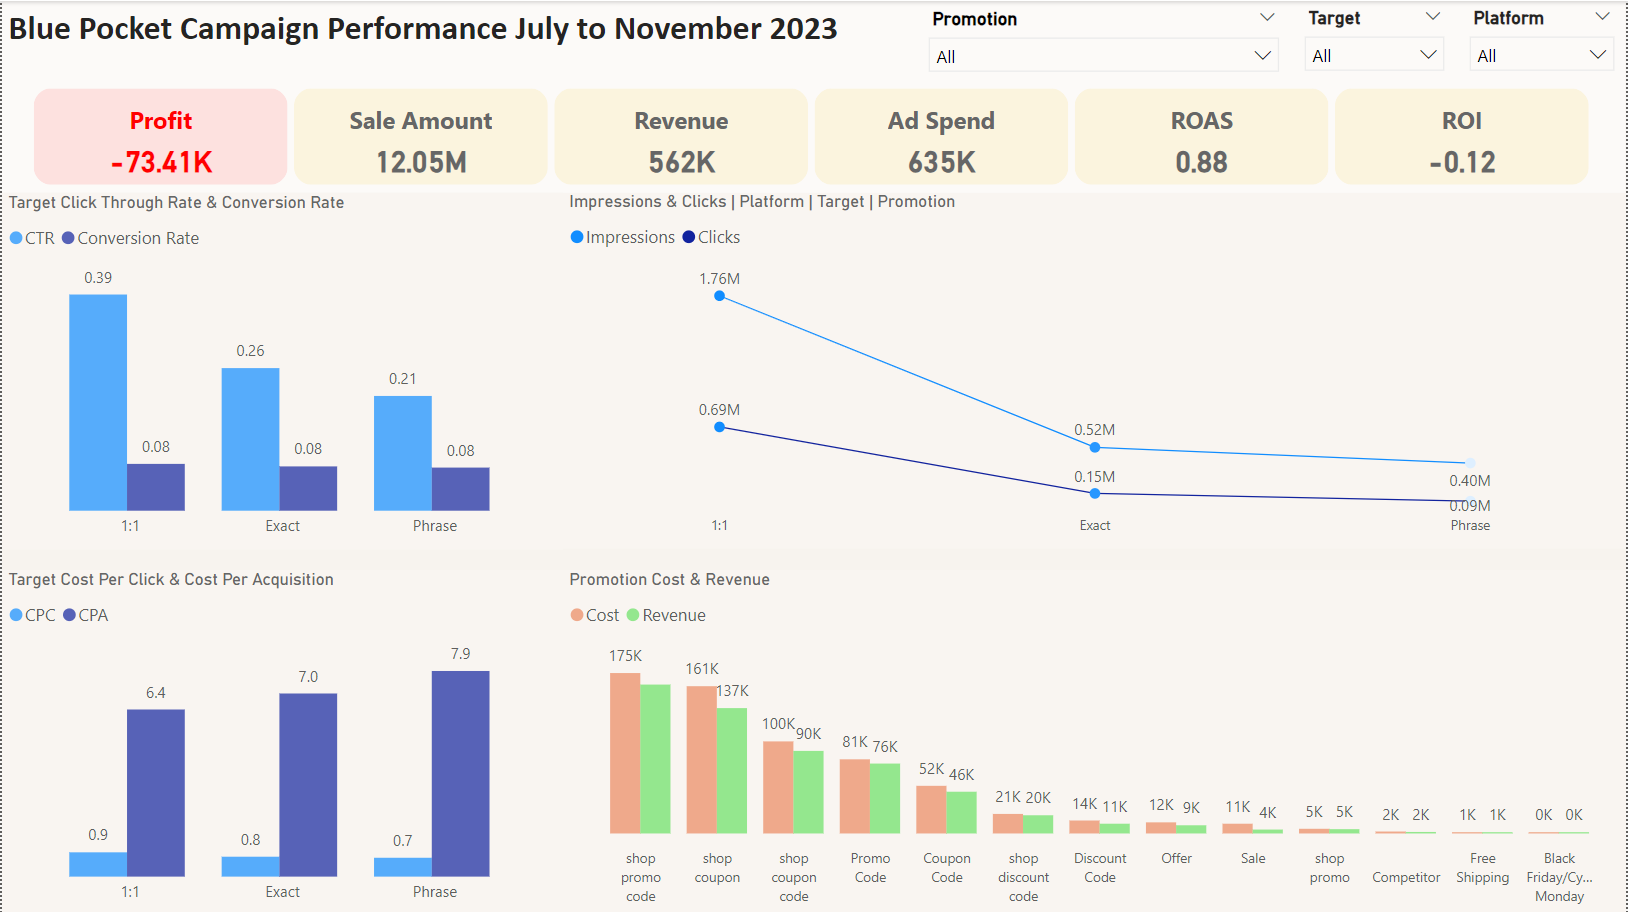

This screenshot's page, from the dashboard's own definition file:
{"tool":"powerbi","page":{"name":"Campaign Performance","canvas":[1280,720],"ordinal":1},"visuals":[{"type":"textbox","box":[0,0,1279.1,150.5],"z":0},{"type":"slicer","fields":{"Values":["final_shop_6modata.Promotion Hierarchy.Target"]},"box":[1016.1,0,130.2,63],"z":1000},{"type":"slicer","fields":{"Values":["final_shop_6modata.Promotion Hierarchy.Platform"]},"box":[1146.3,0,133.7,63.8],"z":2000},{"type":"cardVisual","fields":{"Data":["Sum(final_shop_6modata.P&L)","Sum(final_shop_6modata.Sale Amount)","Sum(final_shop_6modata.Revenue)","Sum(final_shop_6modata.Cost)","final_shop_6modata.ROAS","final_shop_6modata.ROI"]},"box":[0,64.1,1280,86.4],"z":3000},{"type":"clusteredColumnChart","title":"Target Click Through Rate & Conversion Rate","fields":{"Category":["final_shop_6modata.Target"],"Y":["Avg(final_shop_6modata.CTR)","Avg(final_shop_6modata.Conv Rate)"]},"box":[0,150.9,442.1,280.6],"z":4000},{"type":"lineChart","title":"Impressions & Clicks | Platform | Target | Promotion","fields":{"Y":["Sum(final_shop_6modata.Impressions)","Sum(final_shop_6modata.Clicks)"],"Category":["final_shop_6modata.Date.Variation.Date Hierarchy.Month","final_shop_6modata.Promotion Hierarchy.Platform","final_shop_6modata.Promotion Hierarchy.Target","final_shop_6modata.Promotion Hierarchy.Promotion"]},"box":[442.1,150.3,838.1,281.2],"z":5000},{"type":"slicer","fields":{"Values":["final_shop_6modata.Promotion"]},"box":[720.2,0.9,295.8,62.1],"z":6000},{"type":"clusteredColumnChart","title":"Target Cost Per Click & Cost Per Acquisition","fields":{"Category":["final_shop_6modata.Target"],"Y":["Avg(final_shop_6modata.CPC)","final_shop_6modata.CPA"]},"box":[0,448.3,442.1,271.9],"z":7000},{"type":"clusteredColumnChart","title":"Promotion Cost & Revenue","fields":{"Category":["final_shop_6modata.Promotion Hierarchy.Promotion"],"Y":["Sum(final_shop_6modata.Cost)","Sum(final_shop_6modata.Revenue)"]},"box":[442.1,448.3,838.1,271.9],"z":8000}]}

Visuals, with their boxes in screenshot pixels (x1, y1, x2, y2), scaled from the page's 1280x720 canvas onto the 1628x912 screenshot:
textbox: (0,0,1627,191)
slicer - final_shop_6modata.Promotion Hierarchy.Target: (1292,0,1458,80)
slicer - final_shop_6modata.Promotion Hierarchy.Platform: (1458,0,1627,81)
cardVisual - Sum(final_shop_6modata.P&L) x Sum(final_shop_6modata.Sale Amount): (0,81,1627,191)
"Target Click Through Rate & Conversion Rate" clusteredColumnChart: (0,191,562,547)
"Impressions & Clicks | Platform | Target | Promotion" lineChart: (562,190,1627,547)
slicer - final_shop_6modata.Promotion: (916,1,1292,80)
"Target Cost Per Click & Cost Per Acquisition" clusteredColumnChart: (0,568,562,911)
"Promotion Cost & Revenue" clusteredColumnChart: (562,568,1627,911)
